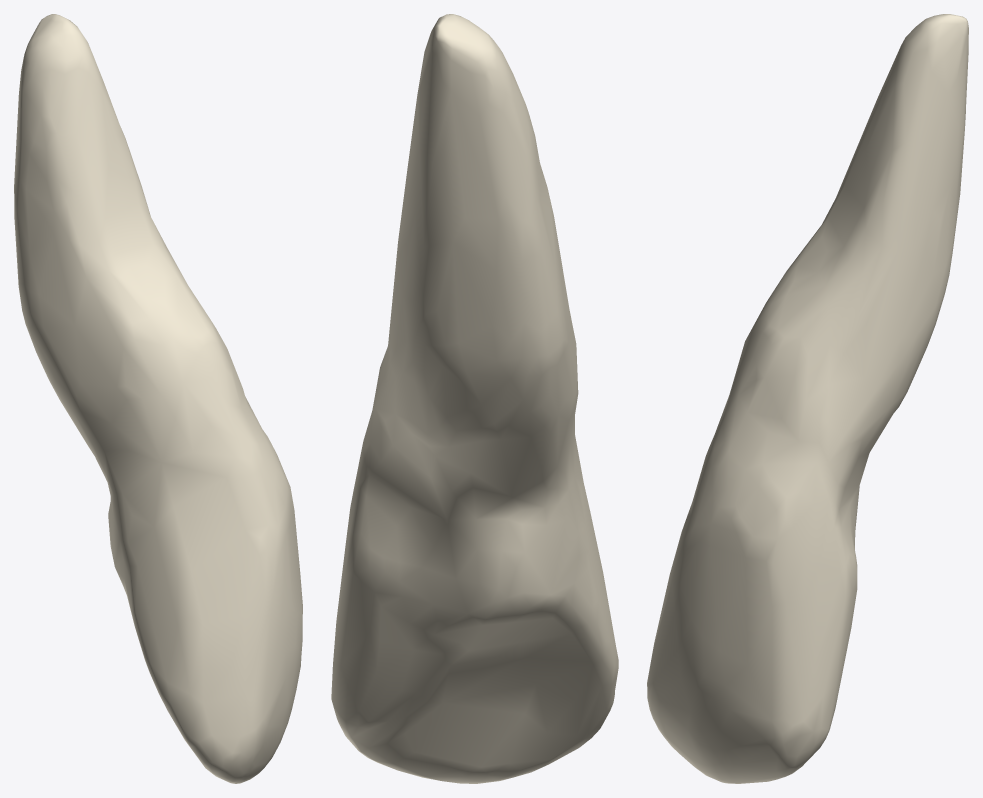
Rendered from tooth-22.glb.
3 views of the same model, side by side, from view 1: azimuth 30°, elevation 25°; view 2: azimuth 150°, elevation 25°; view 3: azimuth 270°, elevation 25° (orthographic). The views are drawn at different scales.
Parts seen in each view (by area): view 1: tooth-22; view 2: tooth-22; view 3: tooth-22.
Part boxes in pixels (left/top/right/bottom): tooth-22: left=14, top=14, right=302, bottom=783; tooth-22: left=331, top=14, right=618, bottom=783; tooth-22: left=647, top=14, right=968, bottom=783.
Bounding box in the file's own units: 0.2403 × 0.7233 × 0.2918.
